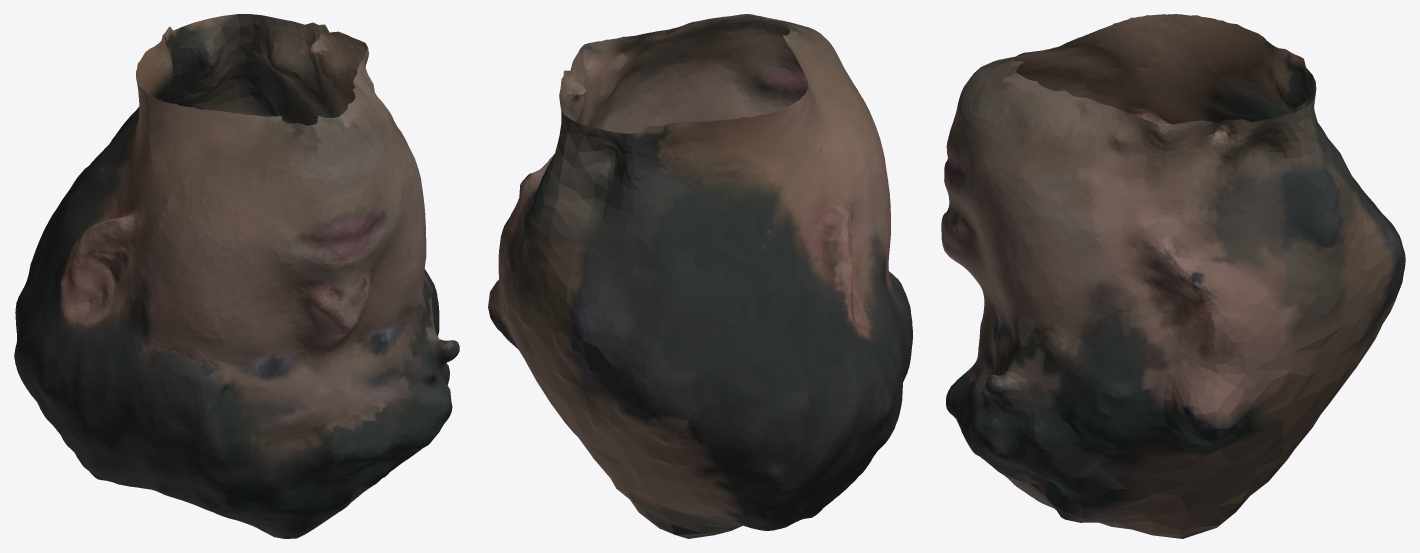
The picture shows the model from 3 angles, left to right: view 1: azimuth 30°, elevation 25°; view 2: azimuth 150°, elevation 25°; view 3: azimuth 270°, elevation 25°; orthographic projection. The views are drawn at different scales.
Size of the model in its own units: 242 by 271 by 243.
